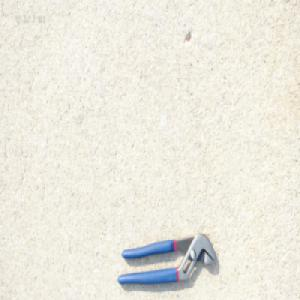Pliers: (117, 230, 217, 284)
